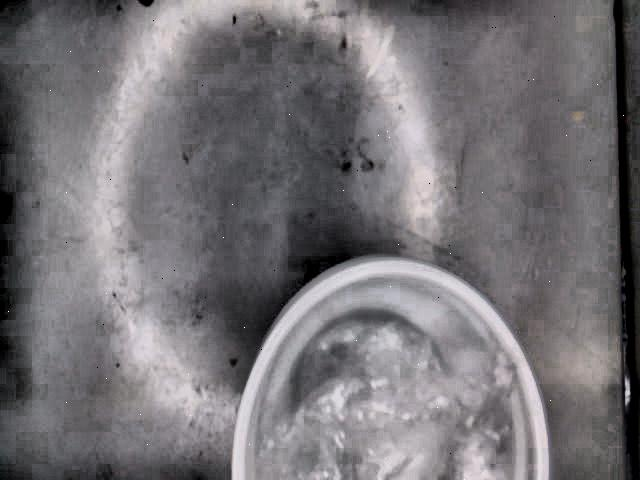Plastic: (230, 257, 551, 477)
